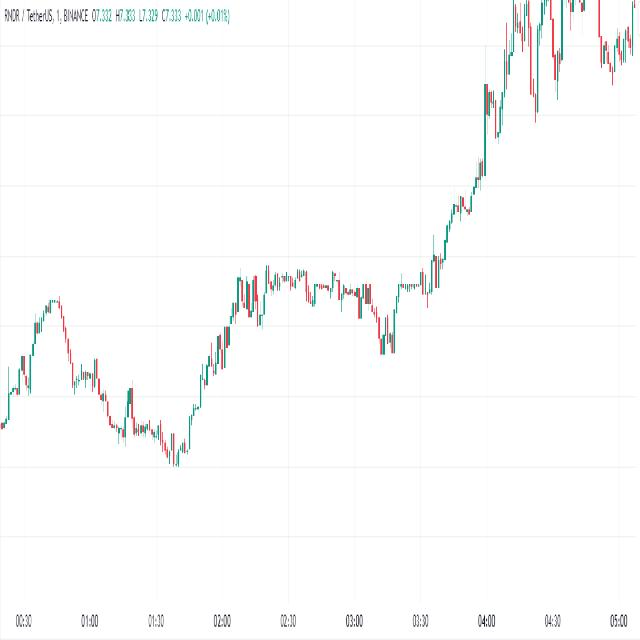Double-Bottom: (372, 293, 402, 368)
Rounding-Top: (204, 244, 384, 392)
